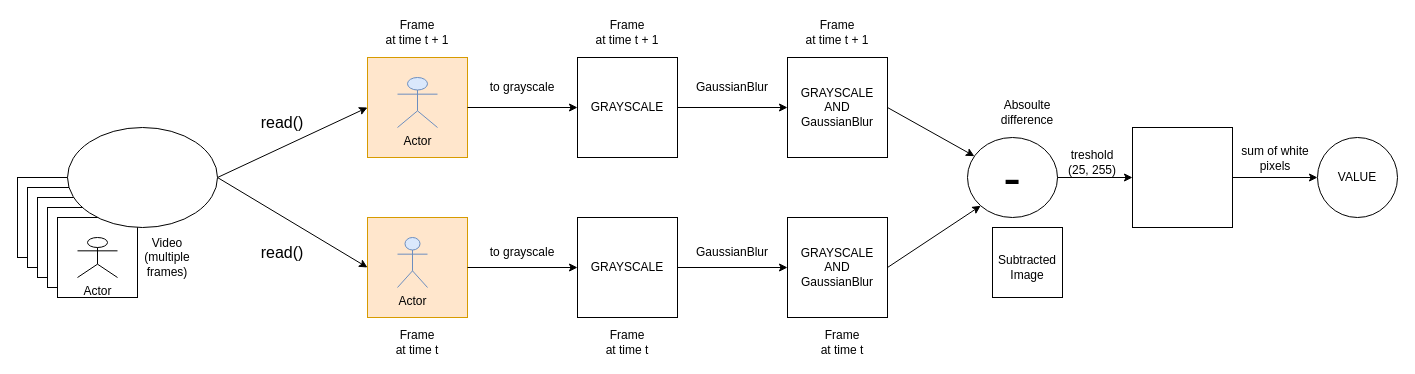
This 1415x374 diagram has some shape labels left out. Here are the shapes that lost their labels. From the top down, the centre of each, then its label:
At point 142,177: "Laptop Camera".
At point 1182,177: "Final Image".
